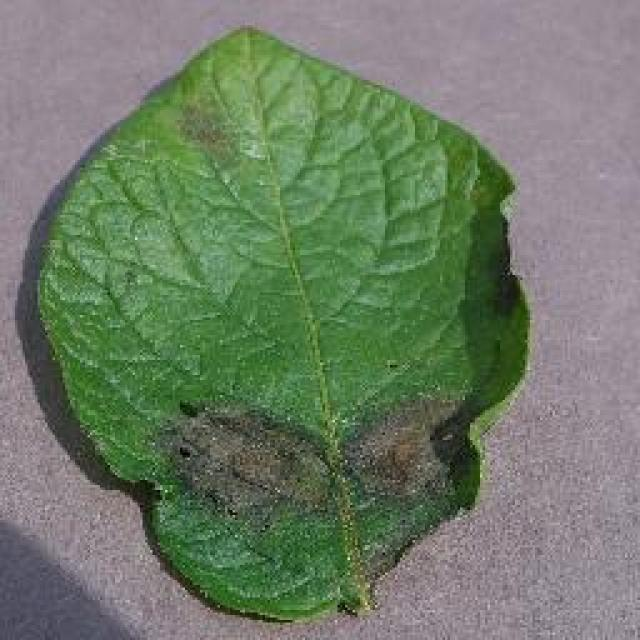late_blight: (30, 23, 535, 625)
